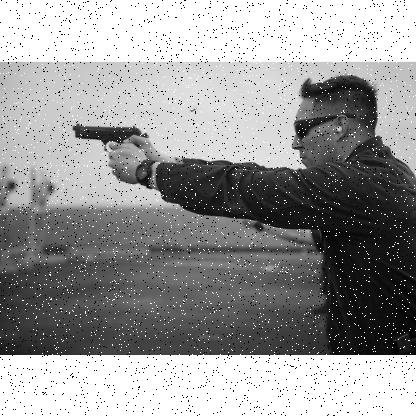gun: (66, 122, 147, 180)
